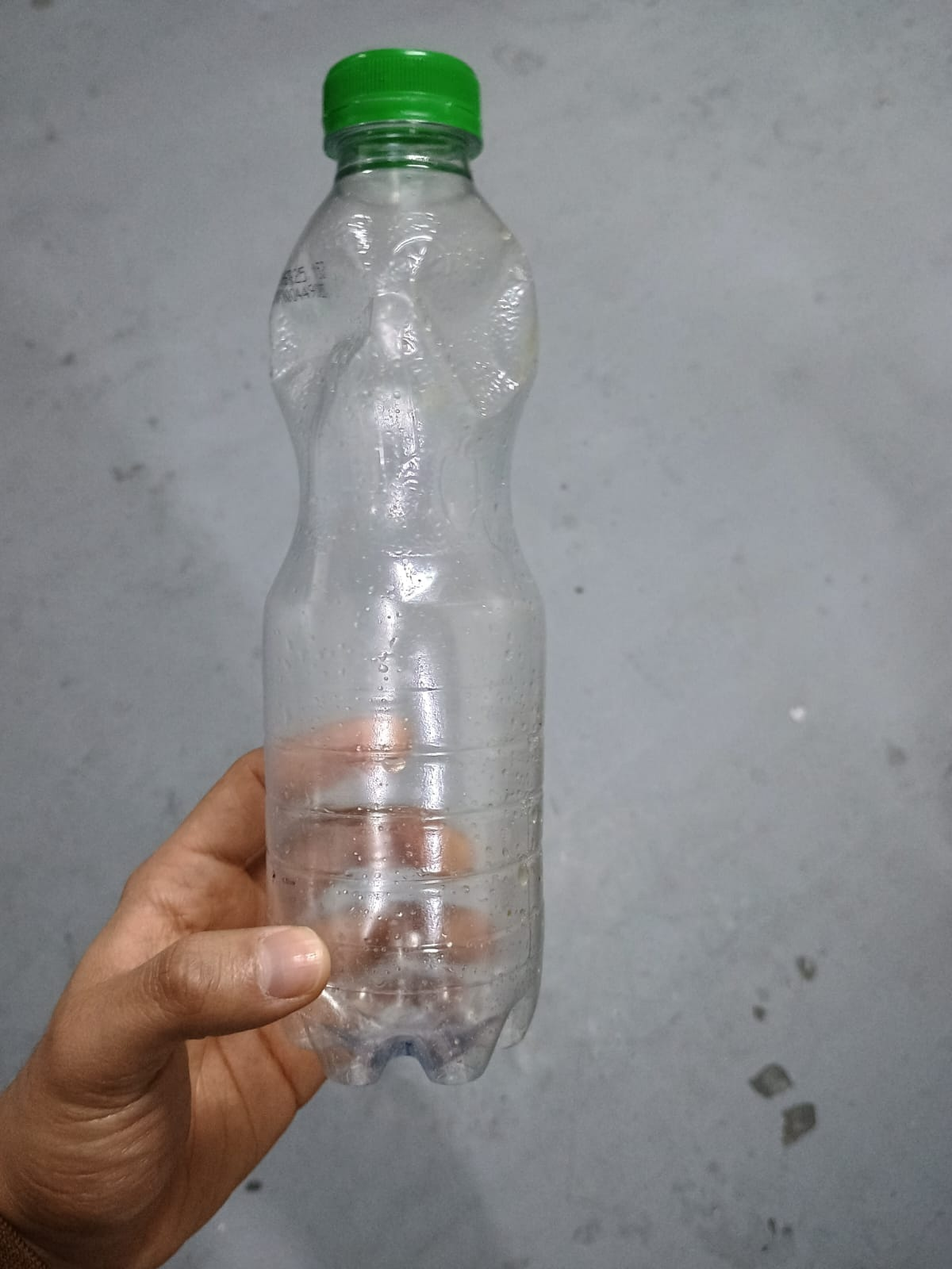Plastico: (266, 41, 543, 1088)
